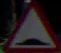Speed Breaker ahead: (6, 6, 53, 47)
